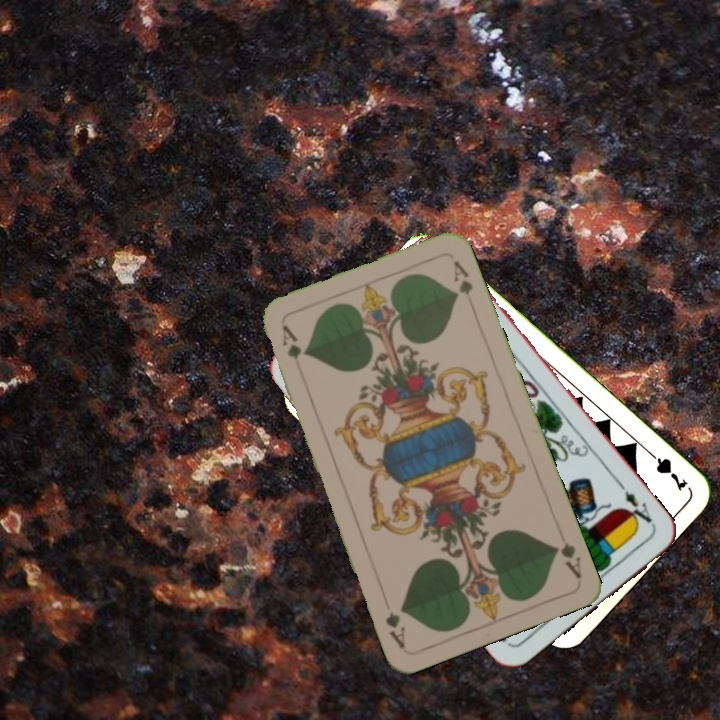EA: (620, 486, 657, 530)
G7: (642, 445, 690, 494)
GA: (549, 537, 584, 582), (278, 320, 304, 378)
